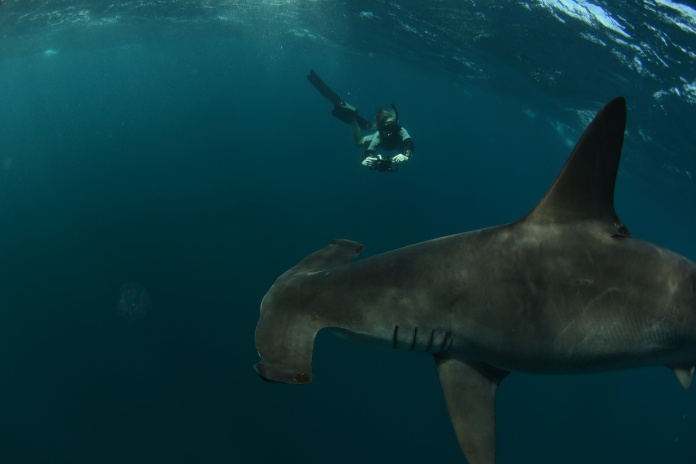Hammer: (218, 92, 678, 464)
